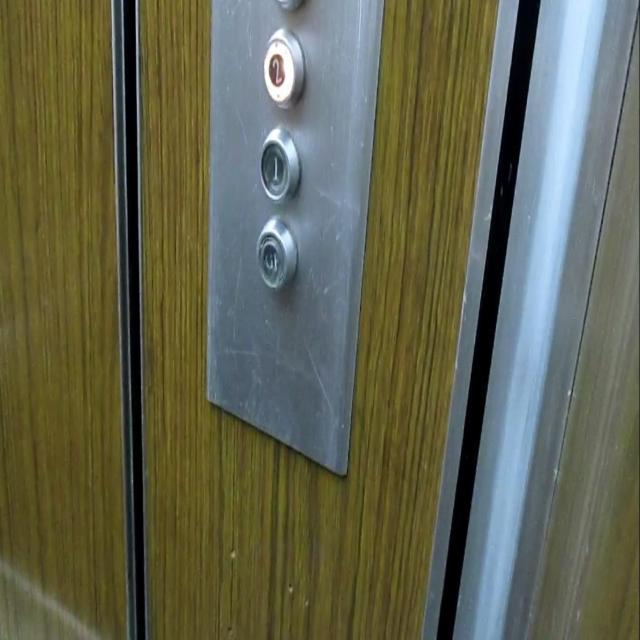1: (257, 123, 302, 207)
2: (260, 25, 308, 113)
GF: (254, 214, 300, 295)
